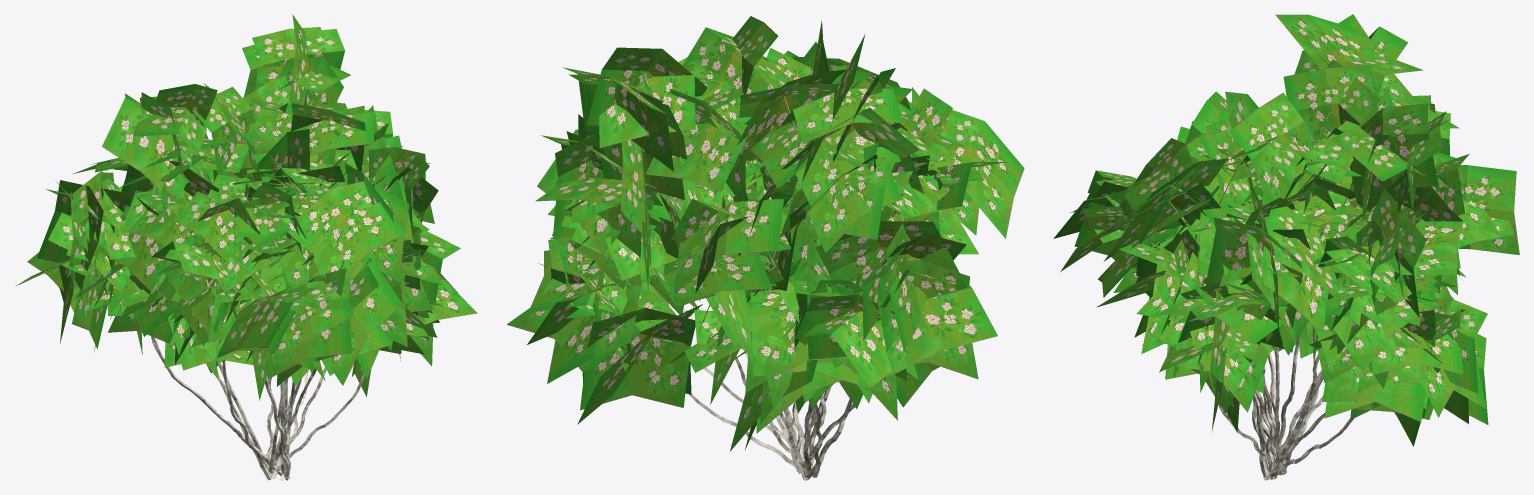
Rendered from bush_1.obj.
3 renders of one model, left to right at view 1: azimuth 30°, elevation 25°; view 2: azimuth 150°, elevation 25°; view 3: azimuth 270°, elevation 25°, orthographic. The views are drawn at different scales.
Visible parts, largest first — view 1: Bush_1_1; view 2: Bush_1_1; view 3: Bush_1_1.
Boxes of the visible parts, x1,y1,x2,y2 form: Bush_1_1: (15,14,477,480); Bush_1_1: (507,16,1024,480); Bush_1_1: (1053,14,1519,480).
Size of the model in its own units: 0.9242 by 0.9191 by 0.9003.
Materials: 1 (1 with a texture image).
